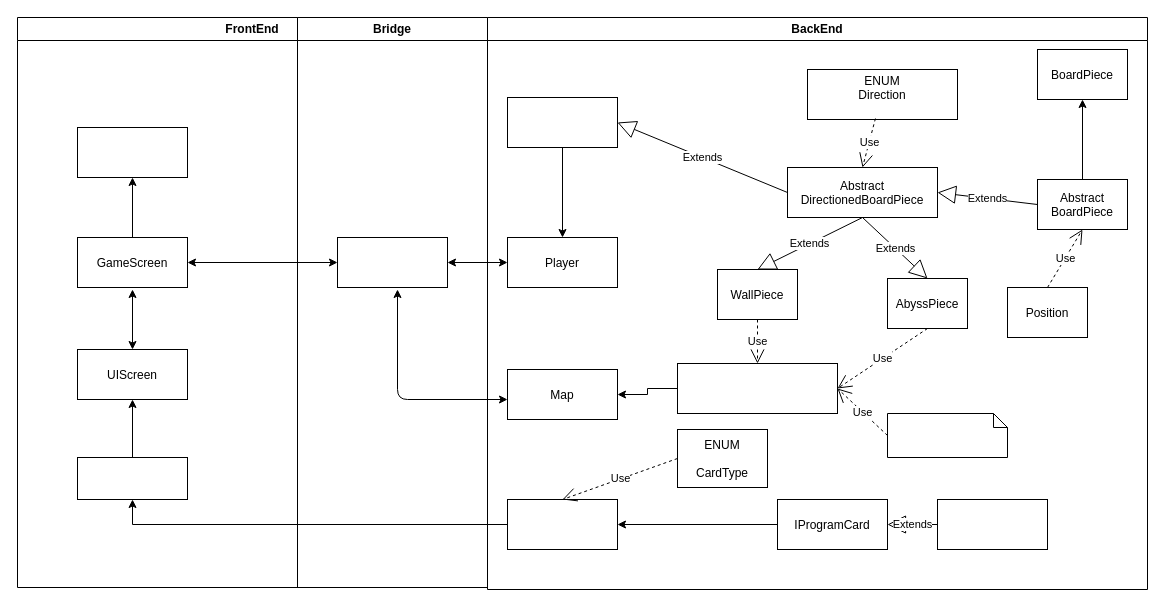
The diagram is 1165 pixels wide and 607 high, and some of its shapes have lost their labels. Here are the shapes that lost their labels. From the top down, the centre of each, then its label:
At (562,122): "PlayerPiece".
At (132,152): "MenuScreen".
At (392,262): "GameLogic".
At (757,388): "BoardPieceGenerator".
At (947,435): "Many other board piece classes".
At (132,478): "CardButton".
At (562,524): "ProgramCards".
At (992,524): "ICard".
